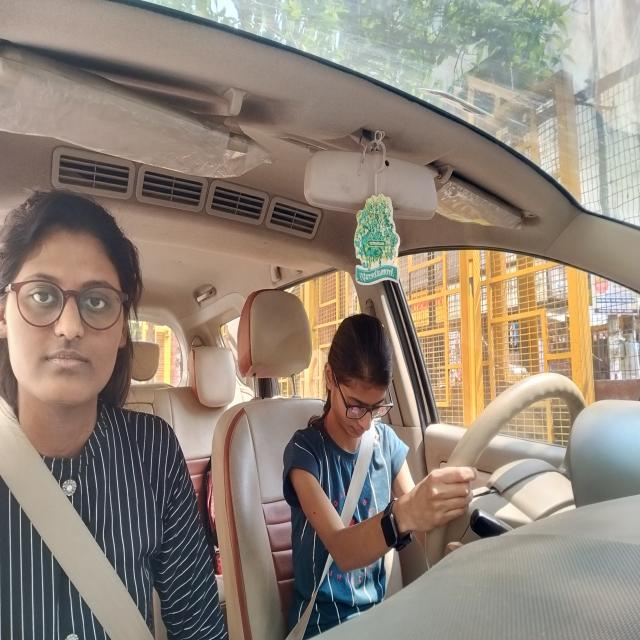drowsy: (322, 310, 395, 448)
person: (0, 188, 143, 415)
